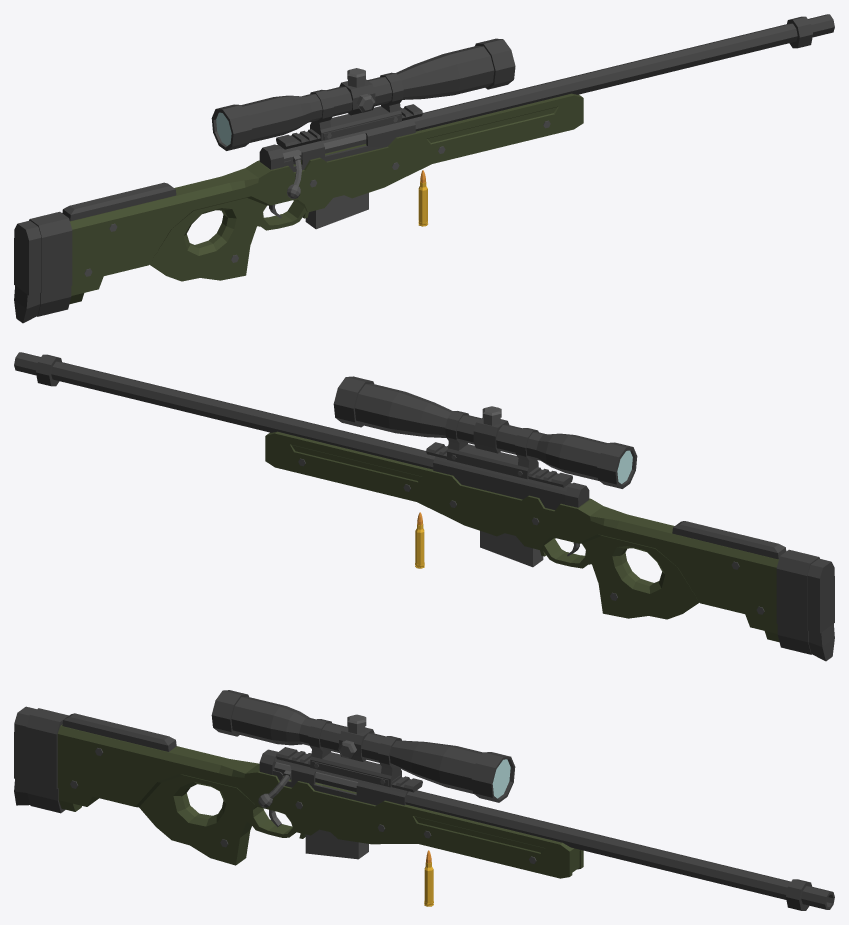
File: AWP.fbx
The picture shows the model from 3 angles, top to bottom: view 1: azimuth 30°, elevation 25°; view 2: azimuth 150°, elevation 25°; view 3: azimuth 330°, elevation 25°; orthographic projection.
Parts seen in each view (by area): view 1: AWP, Mag; view 2: AWP, Mag; view 3: AWP, Mag, Bullet.
Part boxes in pixels (x1=…): AWP: x1=14, y1=14, x2=834, y2=323; Mag: x1=305, y1=193, x2=368, y2=229; AWP: x1=14, y1=352, x2=834, y2=661; Mag: x1=480, y1=531, x2=543, y2=567; AWP: x1=14, y1=690, x2=834, y2=910; Mag: x1=305, y1=829, x2=368, y2=859; Bullet: x1=424, y1=850, x2=433, y2=906.
Bounding box in the file's own units: 945 × 192 × 59.42.
1 material, 1 textured.
